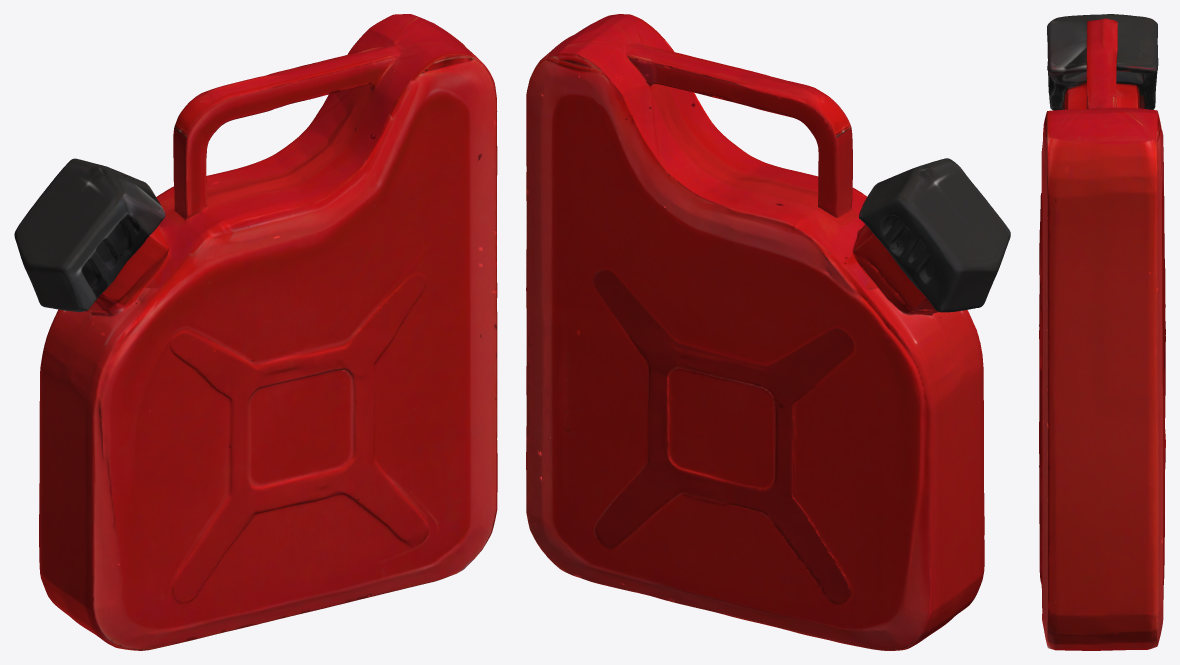
Rendered from Fuel_Container_Icon_0731105415_texture.fbx.
3 renders of one model, left to right at view 1: azimuth 30°, elevation 25°; view 2: azimuth 150°, elevation 25°; view 3: azimuth 270°, elevation 25°, orthographic.
Visible parts, largest first — view 1: input; view 2: input; view 3: input.
Part boxes in pixels (bbox=[...]): input: bbox=[14, 14, 497, 650]; input: bbox=[526, 14, 1010, 650]; input: bbox=[1039, 14, 1165, 650].
Bounding box in the file's own units: 176 × 200 × 42.8.
1 material, 1 textured.
